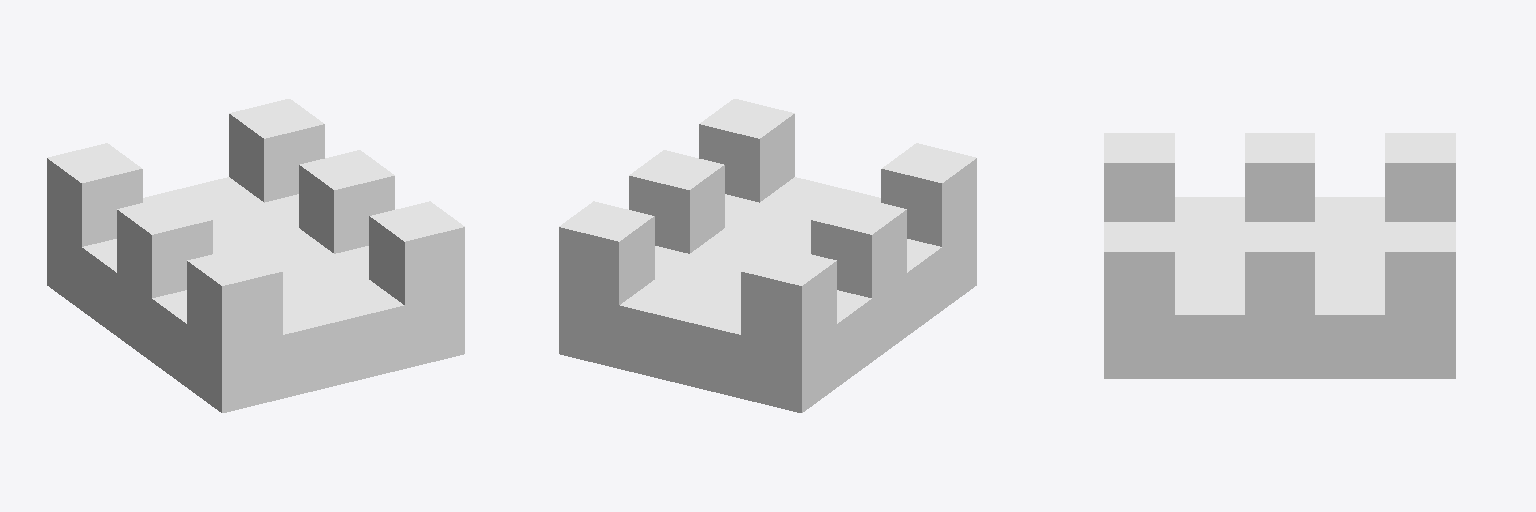
The model's file is Dragon_small-1.obj.
3 renders of one model, left to right at view 1: azimuth 30°, elevation 25°; view 2: azimuth 150°, elevation 25°; view 3: azimuth 270°, elevation 25°, orthographic.
Parts seen in each view (by area): view 1: object 1; view 2: object 1; view 3: object 1.
Part boxes in pixels (x1,y1,x2,y2): object 1: (47, 99, 464, 412); object 1: (559, 99, 976, 412); object 1: (1104, 133, 1455, 378).
Size of the model in its own units: 0.4 by 0.2 by 0.5.